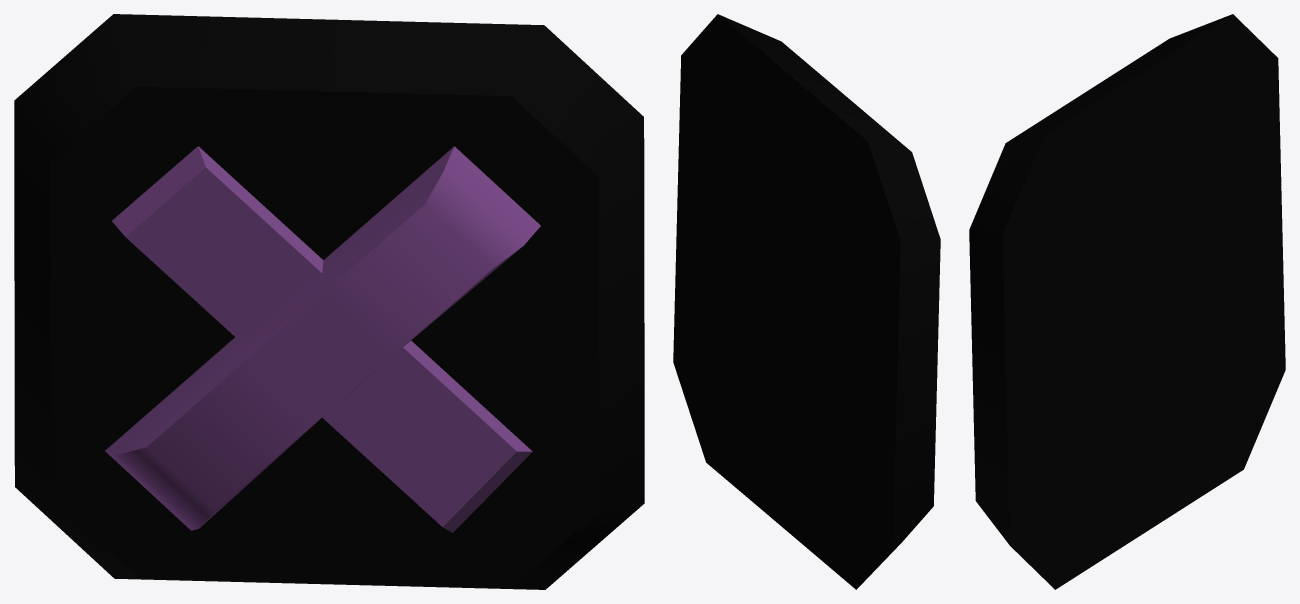
The model's file is eyepatch_left.fbx.
3 renders of one model, left to right at view 1: azimuth 30°, elevation 25°; view 2: azimuth 150°, elevation 25°; view 3: azimuth 270°, elevation 25°, orthographic. The views are drawn at different scales.
Visible parts, largest first — view 1: eyepatch_left; view 2: eyepatch_left; view 3: eyepatch_left.
Part boxes in pixels (x1=…): eyepatch_left: x1=14, y1=14, x2=644, y2=589; eyepatch_left: x1=673, y1=14, x2=940, y2=589; eyepatch_left: x1=969, y1=14, x2=1285, y2=589.
Bounding box in the file's own units: 40.65 × 47.4 × 30.05.
Materials: 1 (1 with a texture image).
